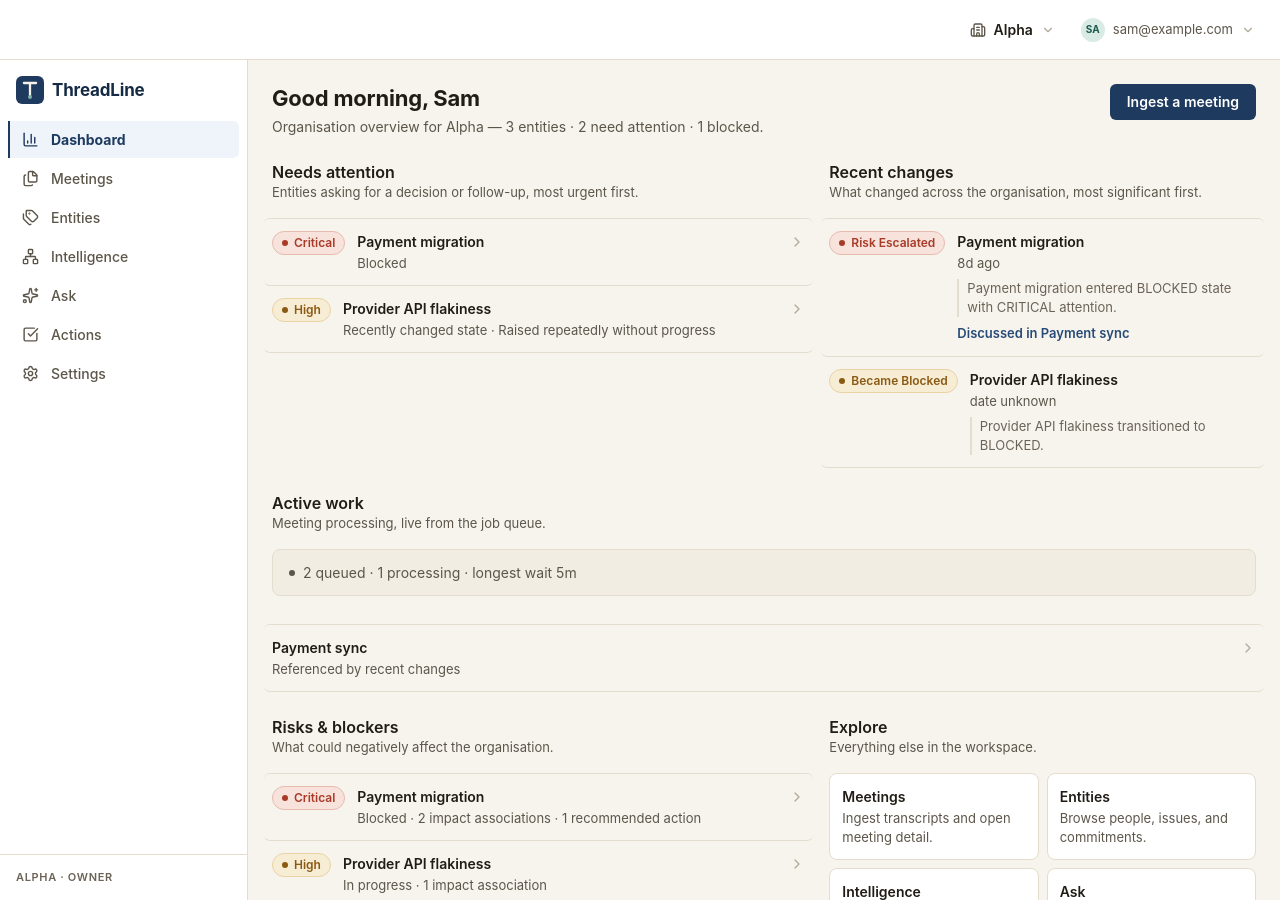
it: dashboard › switches dashboard data with the organisation (tenant A ≠ tenant B)
The image size is (1280, 900).
Check: the link "Payment migration" below "Needs attention" is shown, box [357,233,484,250]
Click the button with aria-label "switch organisation" at (1012, 30), box [970,21,1055,38]
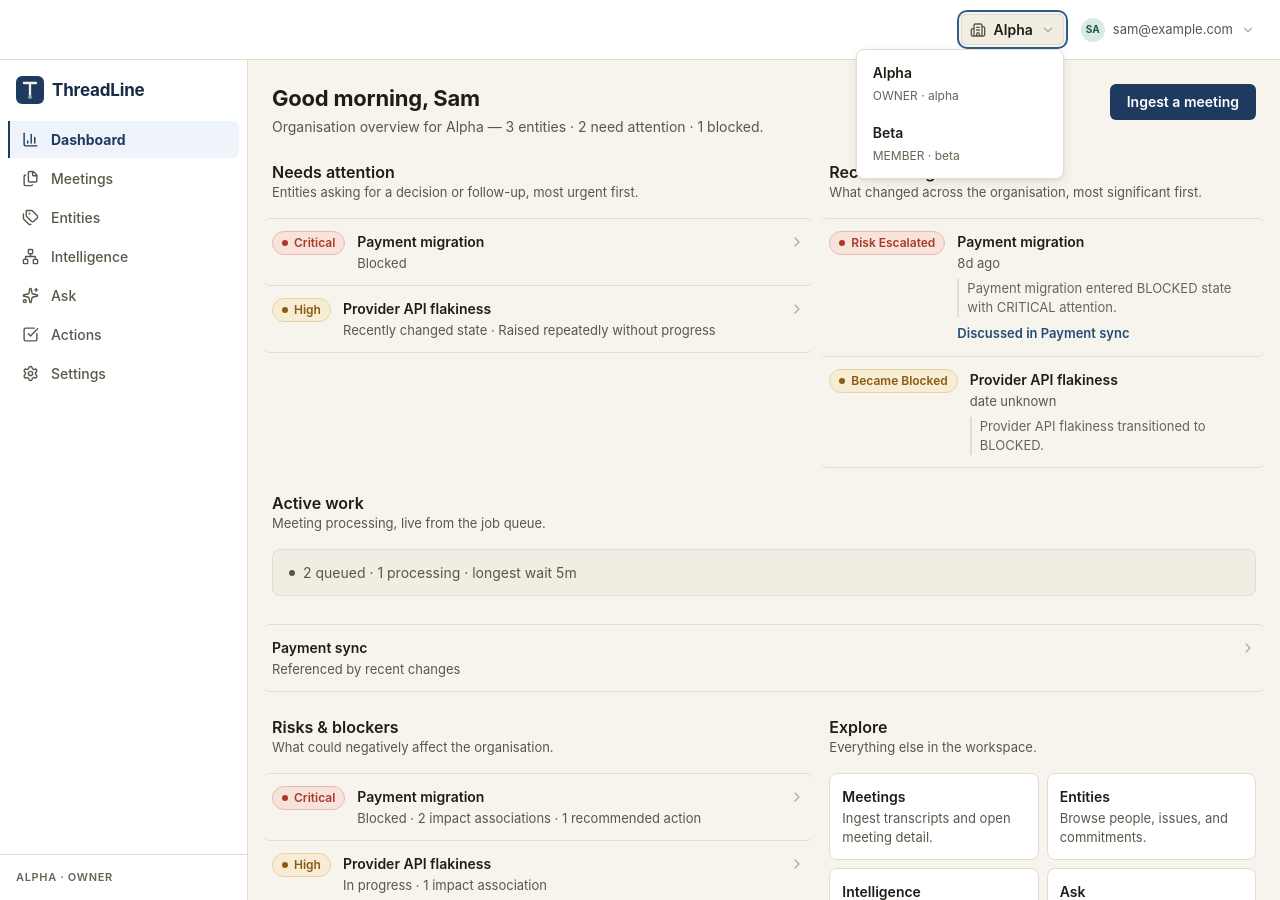
Click the menu item "Beta MEMBER · beta" at (960, 144), box [861,114,1059,174]
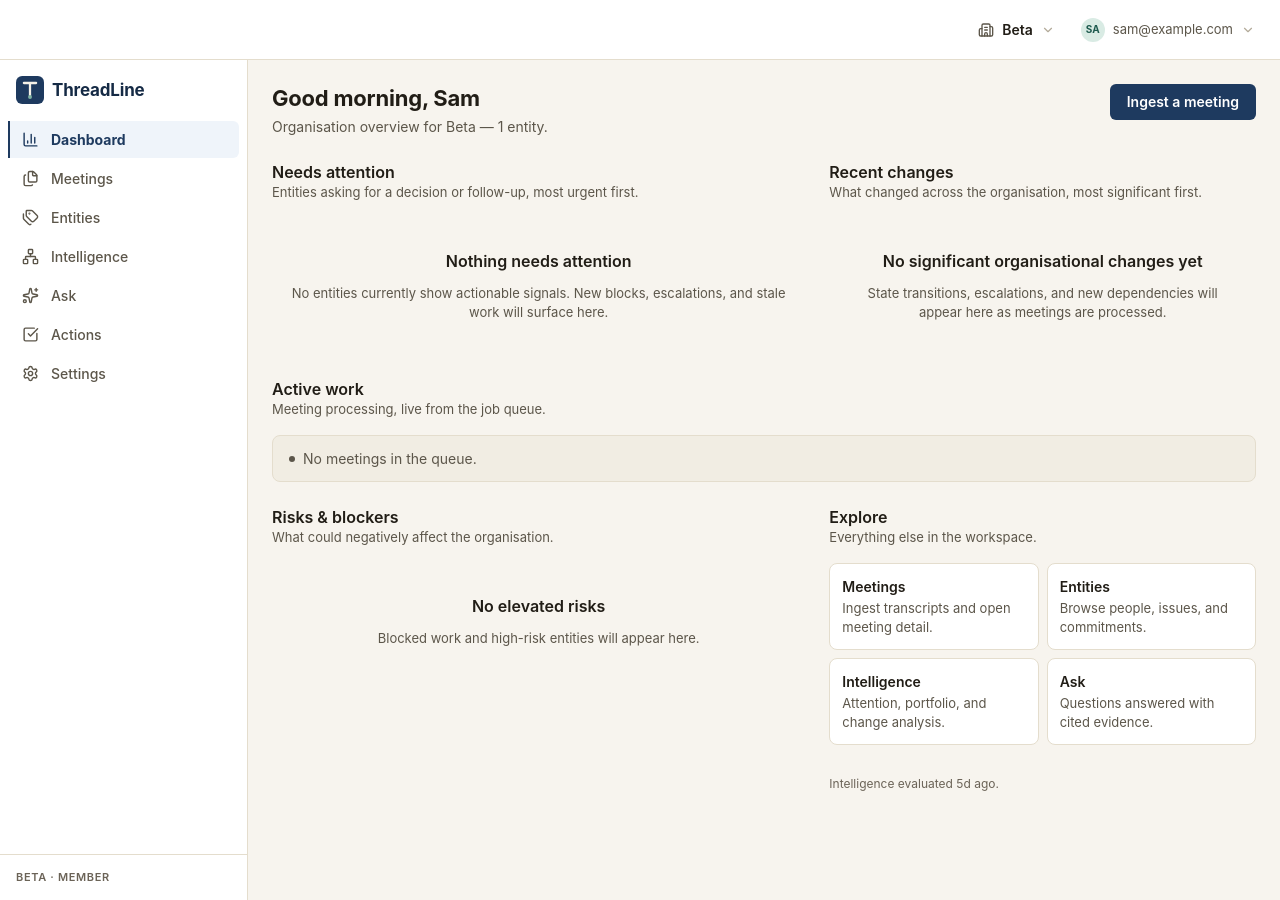
Check: the heading "Nothing needs attention" is shown, box [446,250,632,272]
Check: the link "Payment migration" is gone
Check: the text "Organisation overview for Beta — 1 entity." is shown, box [272,116,548,137]
